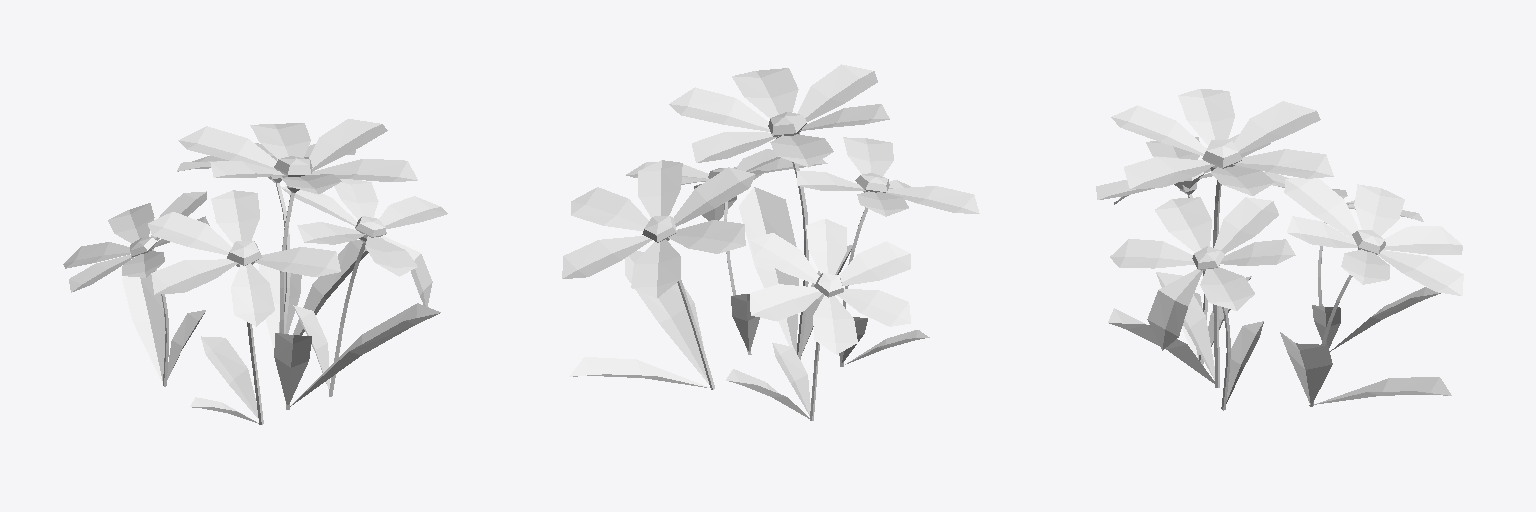
The model's file is yellowflower.obj.
3 views of the same model, side by side, from view 1: azimuth 30°, elevation 25°; view 2: azimuth 150°, elevation 25°; view 3: azimuth 270°, elevation 25° (orthographic).
Visible parts, largest first — view 1: flowers; view 2: flowers; view 3: flowers.
Boxes of the visible parts, x1=… form: flowers: x1=63, y1=119, x2=447, y2=424; flowers: x1=562, y1=64, x2=979, y2=420; flowers: x1=1096, y1=89, x2=1463, y2=410.
Bounding box in the file's own units: 1.92 × 1.47 × 1.86.